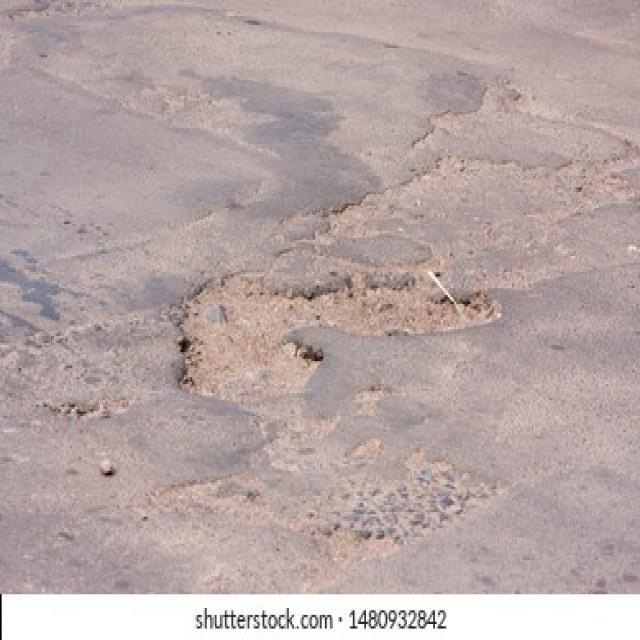Pothole: (178, 270, 498, 407)
